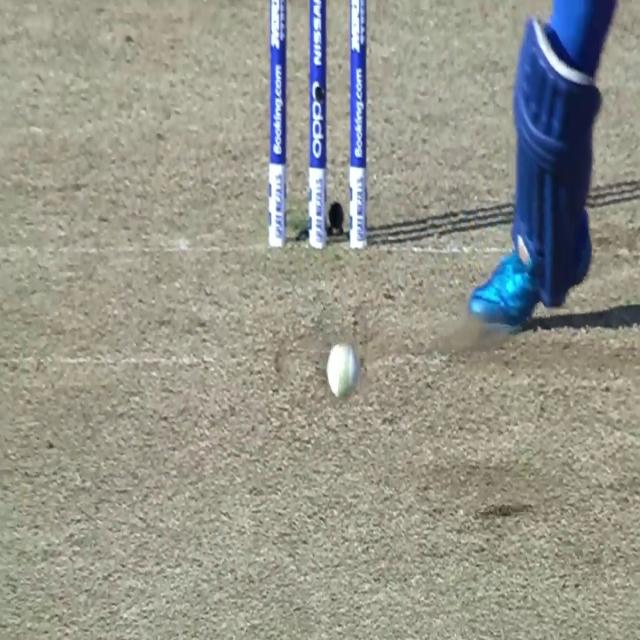ball: (327, 344, 357, 393)
